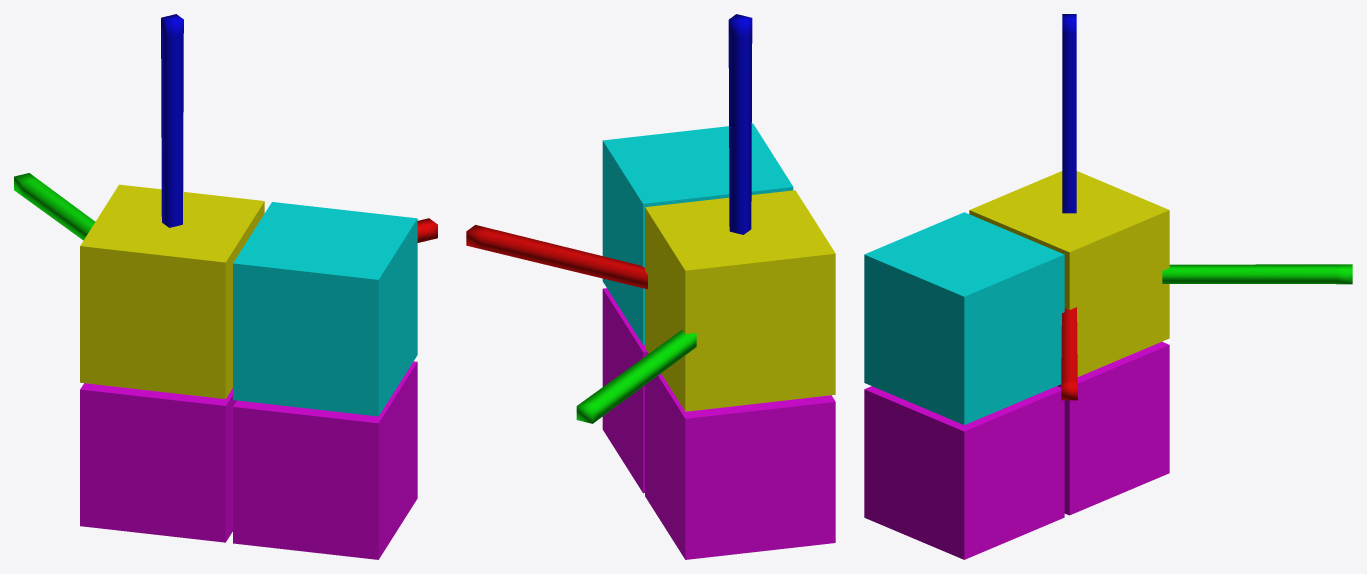
Rendered from rotation_test.gltf.
3 views of the same model, side by side, from view 1: azimuth 30°, elevation 25°; view 2: azimuth 150°, elevation 25°; view 3: azimuth 270°, elevation 25° (orthographic). The views are drawn at different scales.
Visible parts, largest first — view 1: Cube.001, Cube.002, Cube, Cube.003, Plane; view 2: Cube.002, Cube.003, Cube.001, Plane, Cube; view 3: Cube.001, Cube, Cube.002, Cube.003, Plane.
Part boxes in pixels (box(x1,y1,x2,y2)): Cube.001: box(233, 202, 417, 416); Cube.002: box(80, 184, 264, 398); Cube: box(233, 361, 417, 559); Cube.003: box(80, 383, 236, 542); Plane: box(14, 14, 437, 242); Cube.002: box(645, 190, 835, 411); Cube.003: box(645, 355, 835, 559); Cube.001: box(602, 123, 793, 344); Plane: box(466, 14, 752, 423); Cube: box(602, 288, 648, 493); Cube.001: box(864, 212, 1064, 424); Cube: box(864, 386, 1064, 559); Cube.002: box(969, 171, 1169, 376); Cube.003: box(1057, 341, 1169, 515); Plane: box(1061, 14, 1352, 400).
Size of the model in its own units: 5.41 by 7.1 by 6.9.
